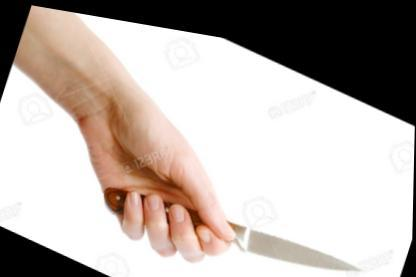knife: (114, 138, 382, 276)
